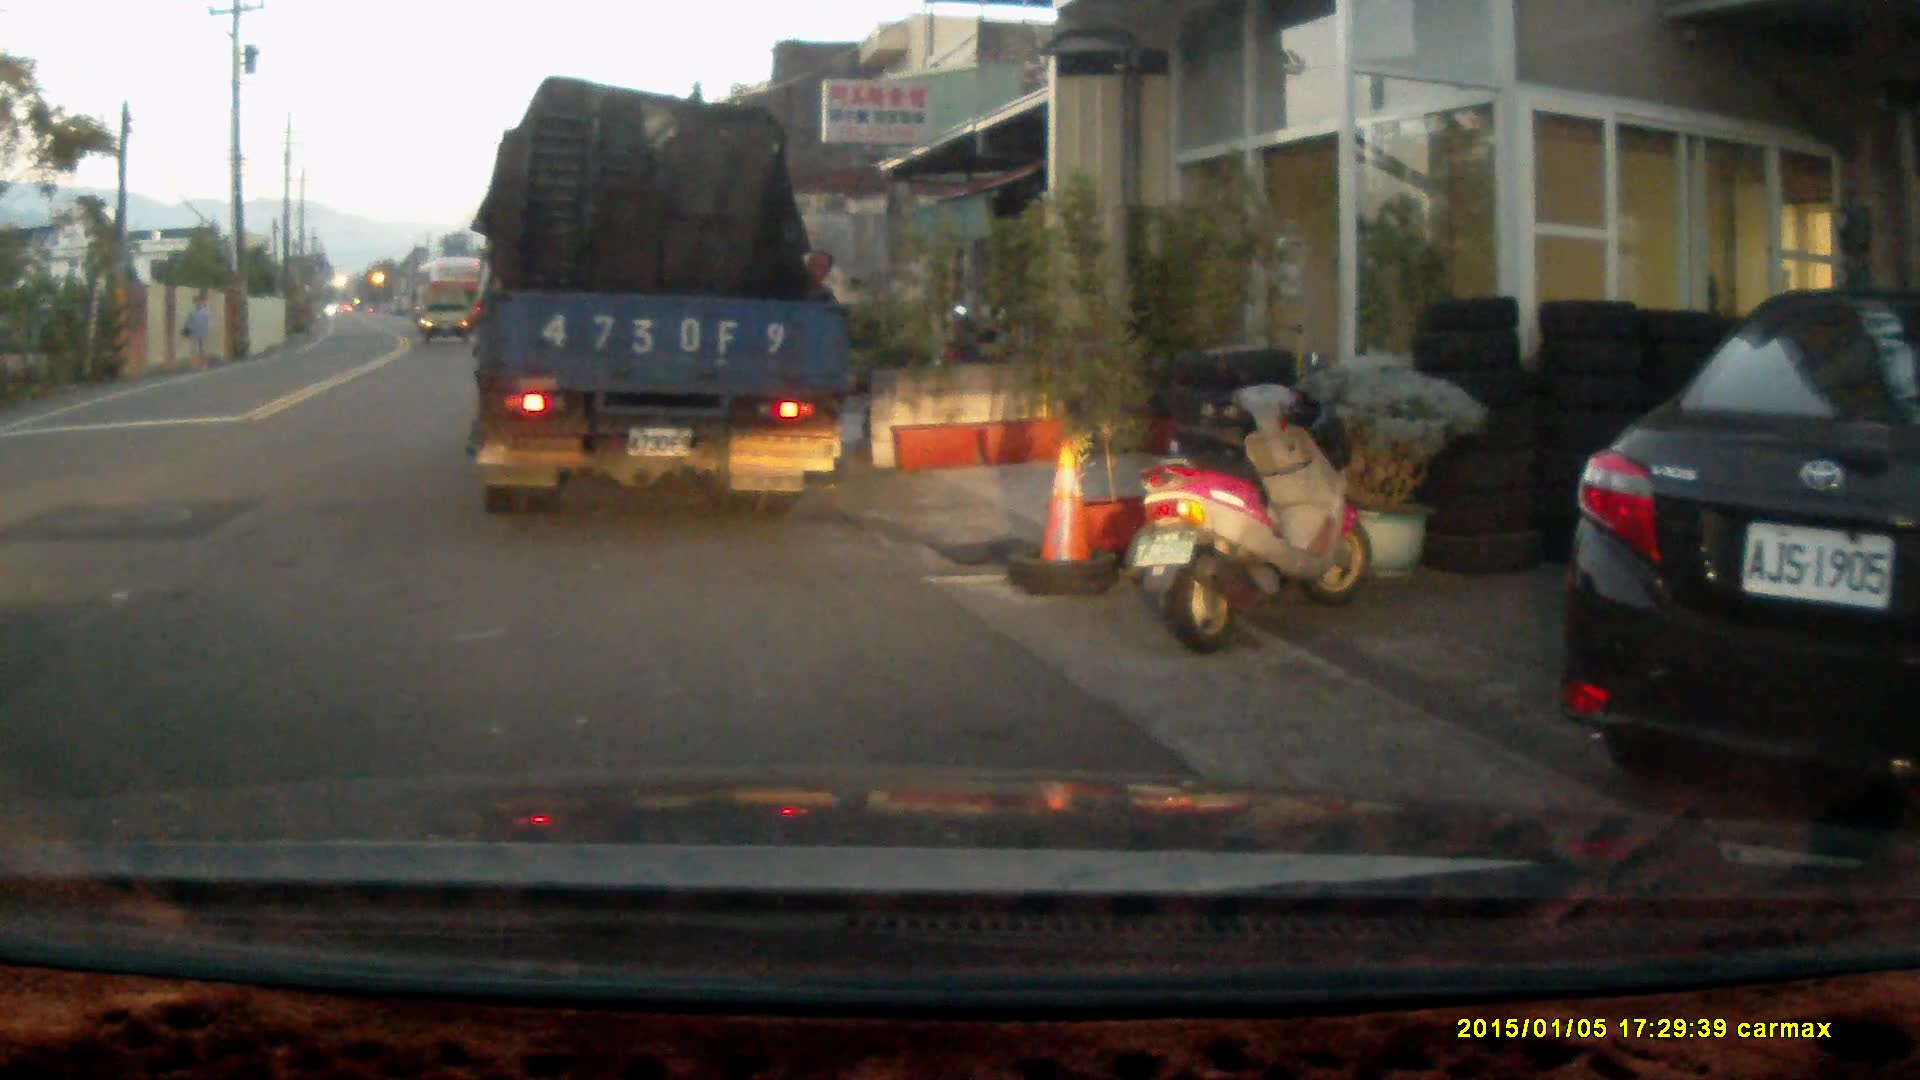pedestrian: (181, 290, 213, 364)
vehicle: (1559, 281, 1920, 810), (459, 86, 856, 506), (412, 252, 487, 334), (422, 287, 471, 344)
